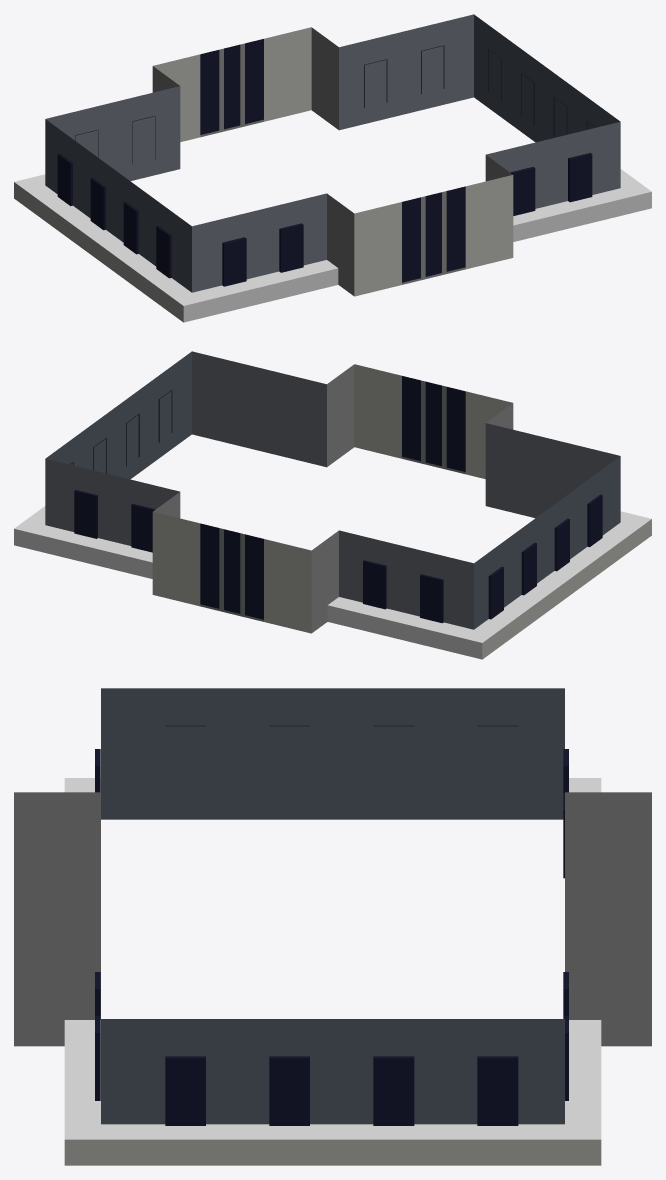
The model's file is TB_CITY_Skysc_G_BodyA_Blue.FBX.
The picture shows the model from 3 angles, top to bottom: view 1: azimuth 30°, elevation 25°; view 2: azimuth 150°, elevation 25°; view 3: azimuth 270°, elevation 25°; orthographic projection. The views are drawn at different scales.
Visible parts, largest first — view 1: TB_CITY_Skysc_G_BodyA_Blue; view 2: TB_CITY_Skysc_G_BodyA_Blue; view 3: TB_CITY_Skysc_G_BodyA_Blue.
Part boxes in pixels (left/top/right/bottom): TB_CITY_Skysc_G_BodyA_Blue: left=14, top=14, right=651, bottom=322; TB_CITY_Skysc_G_BodyA_Blue: left=14, top=351, right=651, bottom=659; TB_CITY_Skysc_G_BodyA_Blue: left=14, top=688, right=651, bottom=1165.
Bounding box in the file's own units: 29.5 × 5 × 22.
